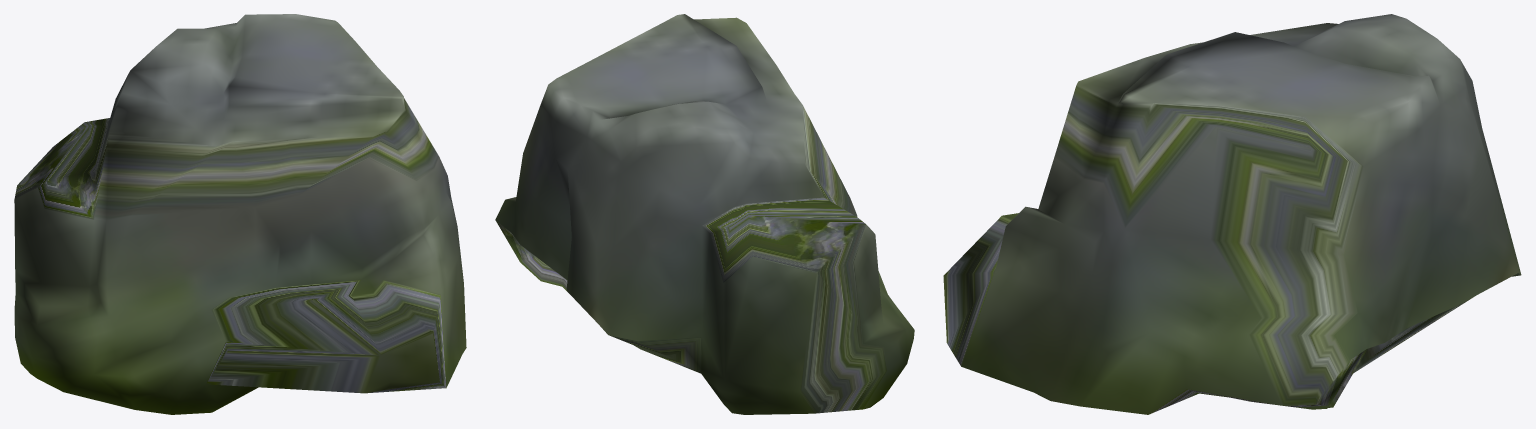
Rendered from Rock_Medium_3.glb.
3 views of the same model, side by side, from view 1: azimuth 30°, elevation 25°; view 2: azimuth 150°, elevation 25°; view 3: azimuth 270°, elevation 25° (orthographic). The views are drawn at different scales.
Parts seen in each view (by area): view 1: Rock_Medium_3; view 2: Rock_Medium_3; view 3: Rock_Medium_3.
Boxes of the visible parts, bbox=[...] form: Rock_Medium_3: bbox=[14, 14, 466, 414]; Rock_Medium_3: bbox=[495, 14, 914, 414]; Rock_Medium_3: bbox=[943, 14, 1521, 414].
Size of the model in its own units: 3.42 by 2.32 by 3.48.
Materials: 1 (1 with a texture image).
